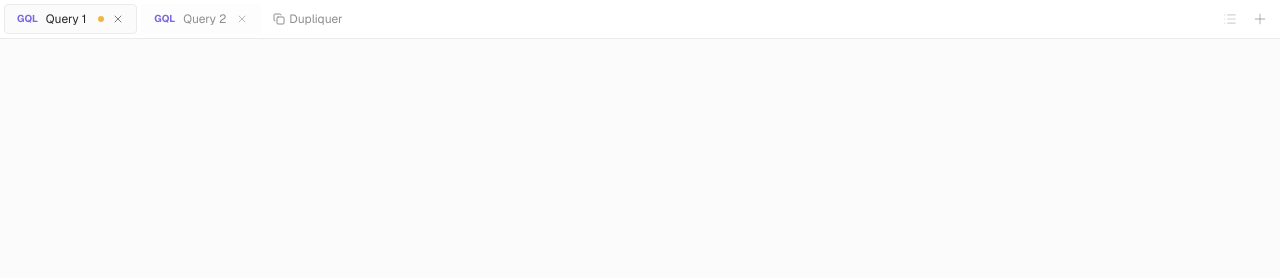
Test case: GraphqlTabBar › exposes Rename in the context menu that triggers inline edit
The width and height of the screenshot is (1280, 278).
Later steps or results of the test are not shown.
Right-click the tab with test id "graphql-tab-tab-2": {"x": 201, "y": 19} top-left (141, 4), bottom-right (261, 34)
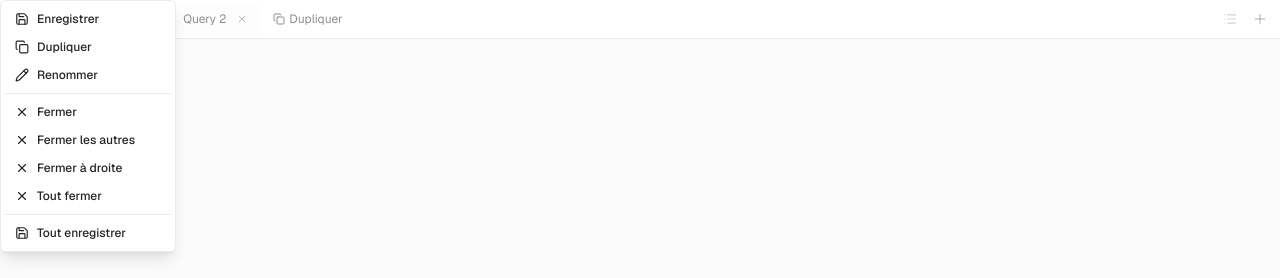
Click the button "Renommer": {"x": 88, "y": 75} top-left (5, 61), bottom-right (171, 89)
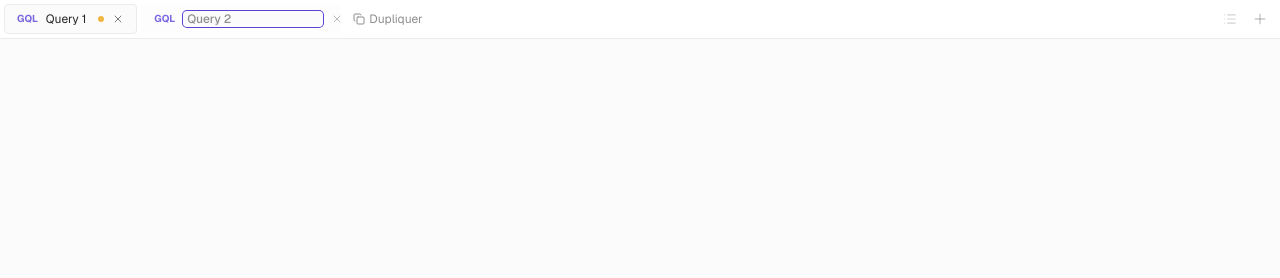
Expected: the field showing "Query 2" is shown, top-left (183, 11), bottom-right (323, 27)
